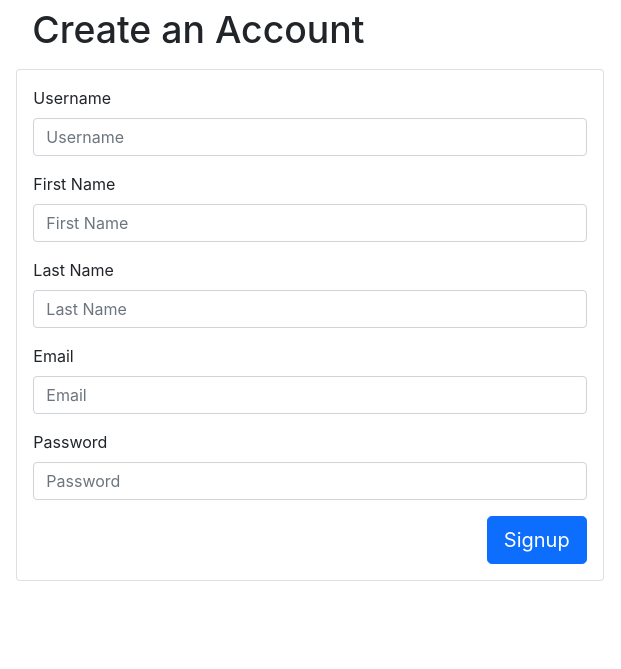
Test: shows error alerts
Click the button "Signup". click: (537, 540)
box: [487,516,587,564]
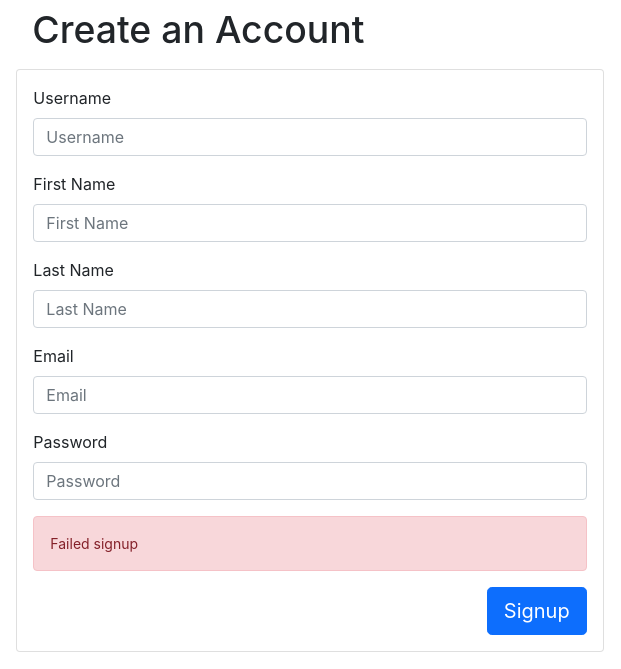
Result: the message "Failed signup" is shown at [33,516,587,571]
